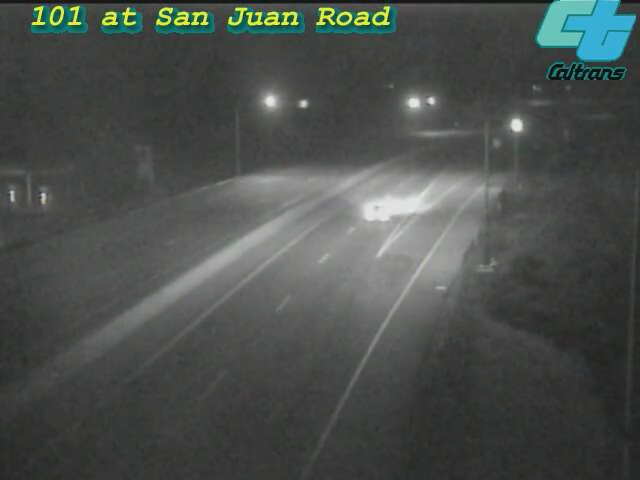vehicle: (336, 173, 416, 253), (490, 101, 540, 151)
